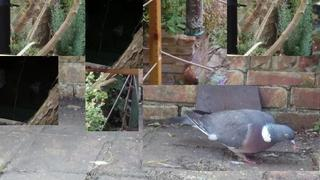wood pigeon: (167, 109, 296, 165)
